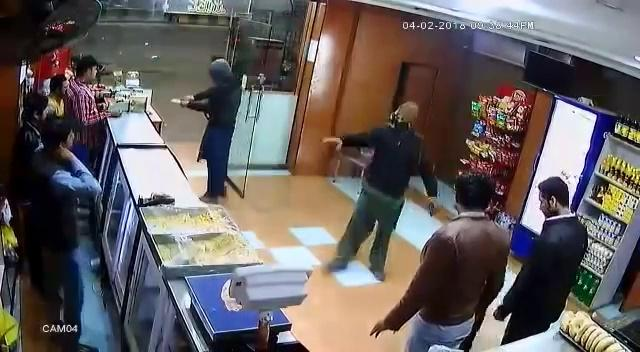weapon: (423, 197, 436, 218), (167, 95, 191, 106)
